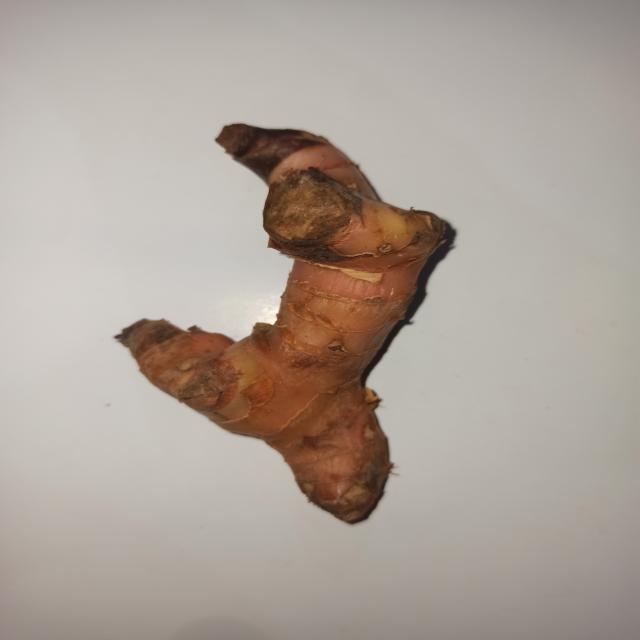ginger: (136, 130, 430, 534)
